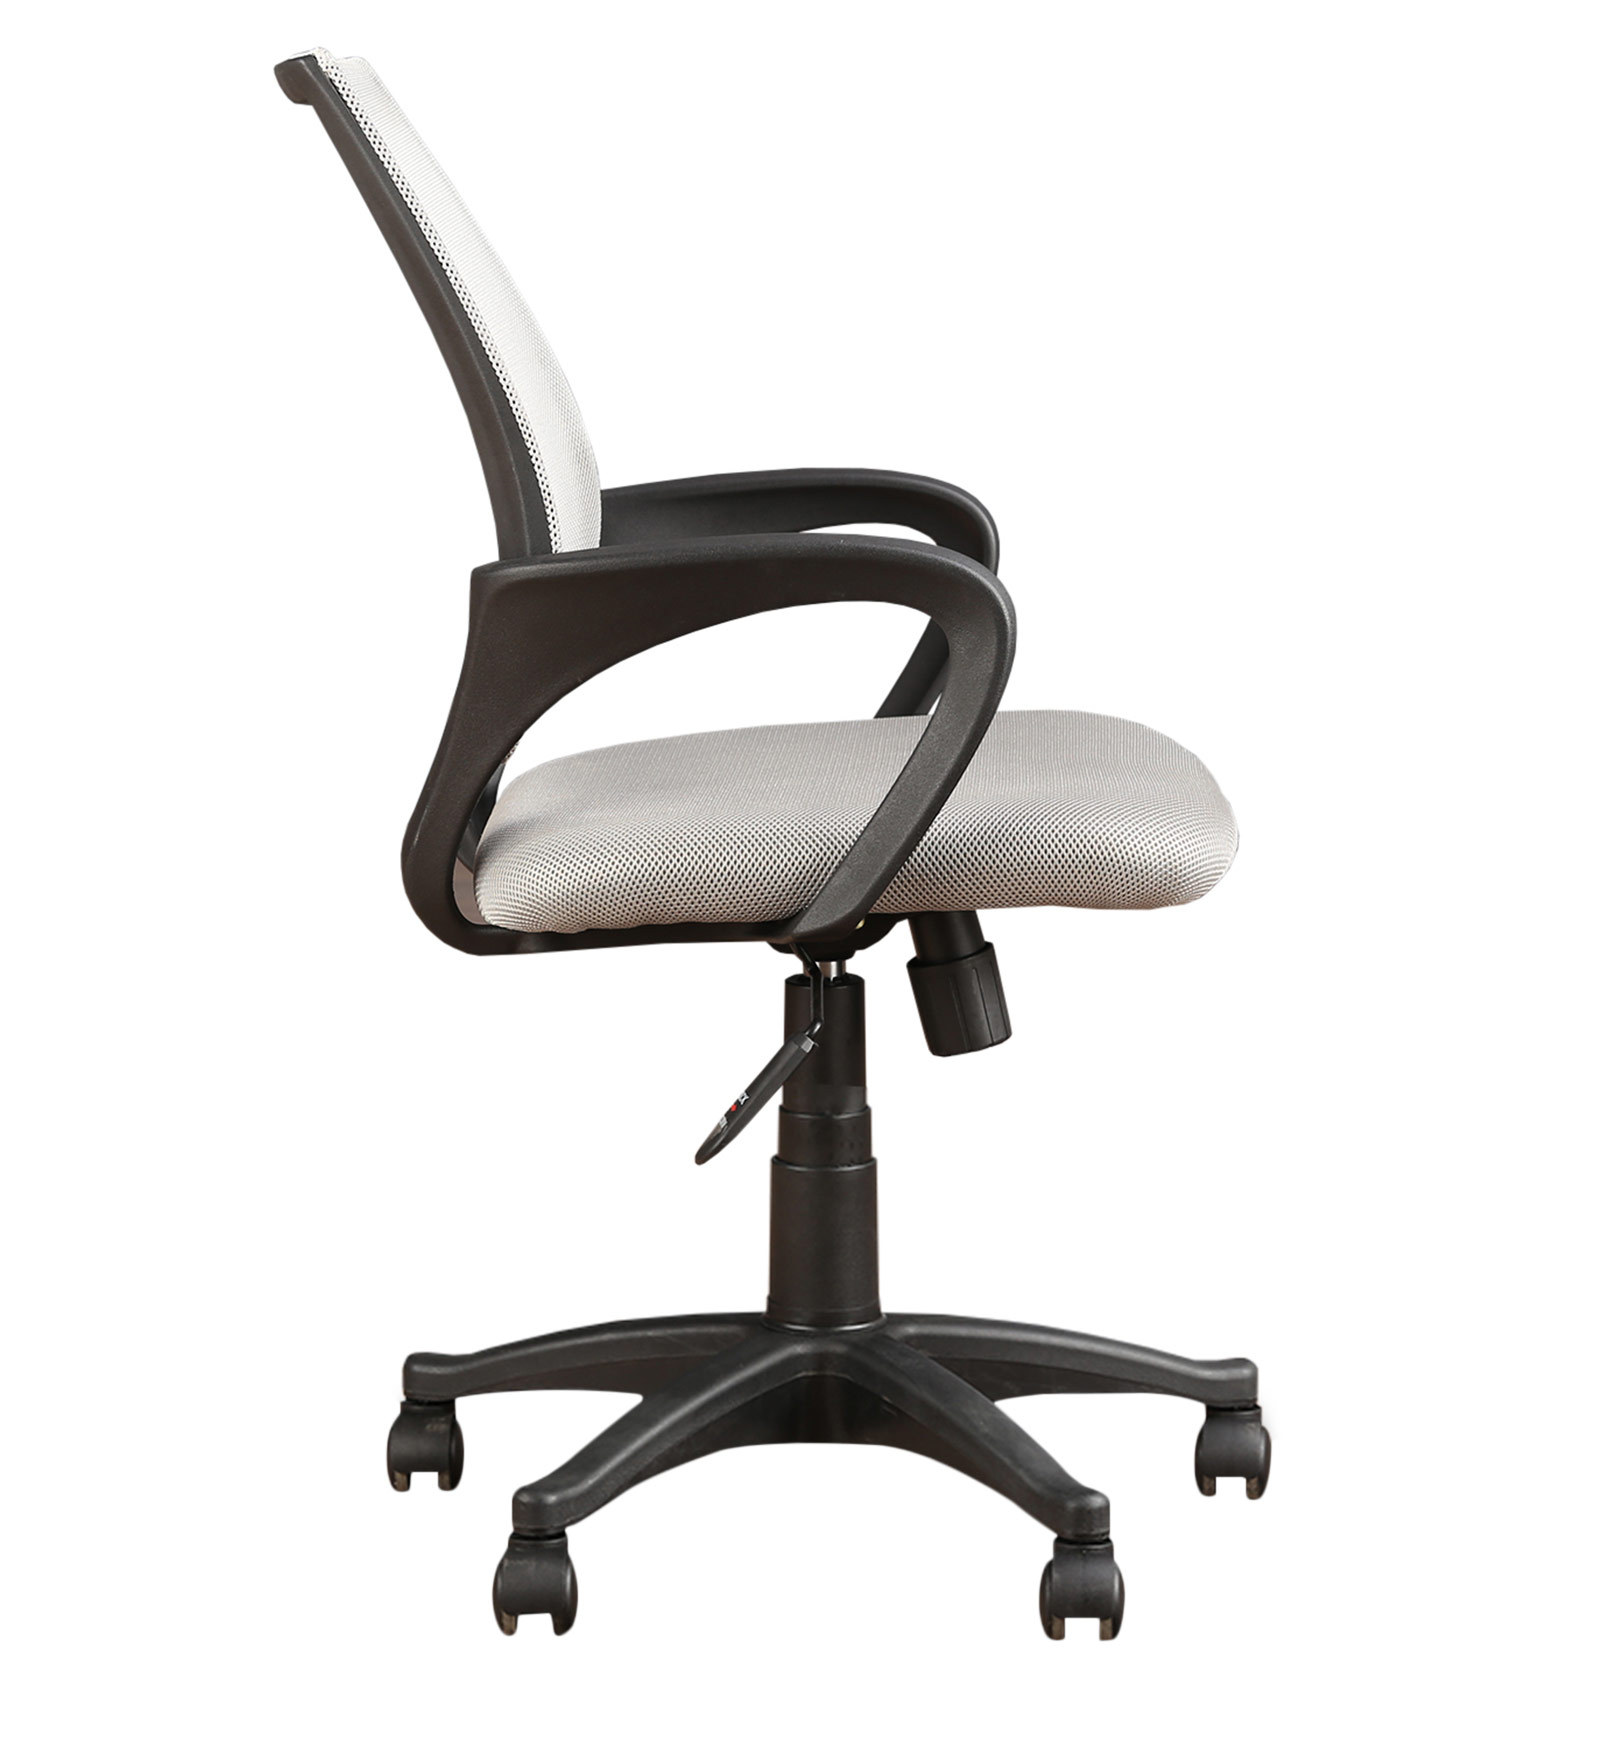Bolton Low Back Ergonomic Chair in Grey Colour by HomeTown: (198, 31, 1316, 1647)
